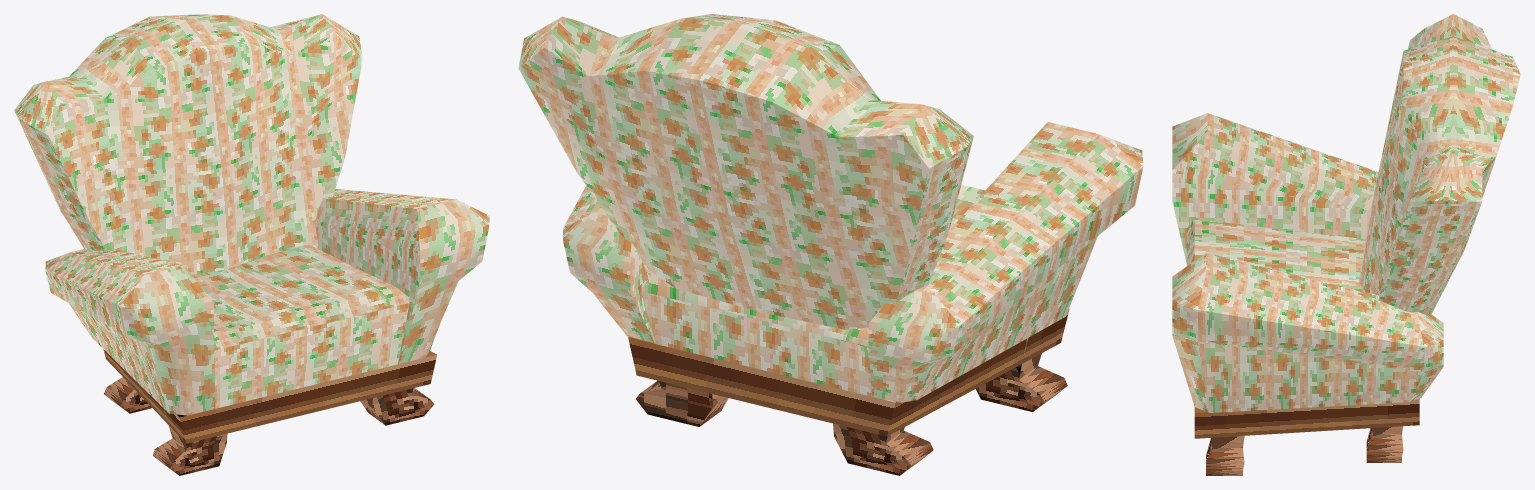
The model's file is isu27-1.glb.
3 views of the same model, side by side, from view 1: azimuth 30°, elevation 25°; view 2: azimuth 150°, elevation 25°; view 3: azimuth 270°, elevation 25° (orthographic). The views are drawn at different scales.
Parts seen in each view (by area): view 1: isu27_1; view 2: isu27_1; view 3: isu27_1.
Part boxes in pixels (x1=…): isu27_1: x1=14, y1=14, x2=489, y2=475; isu27_1: x1=518, y1=14, x2=1143, y2=475; isu27_1: x1=1172, y1=14, x2=1520, y2=475.
Size of the model in its own units: 280 by 246 by 217.
5 materials, 5 textured.
